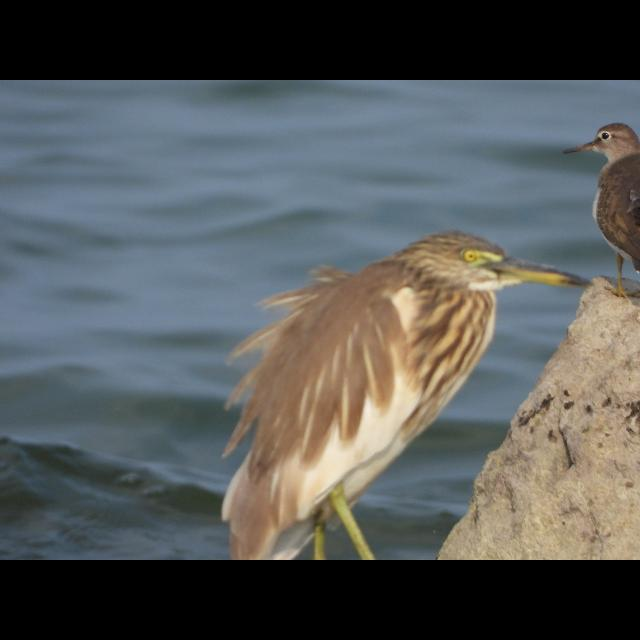heron: (229, 226, 589, 560)
